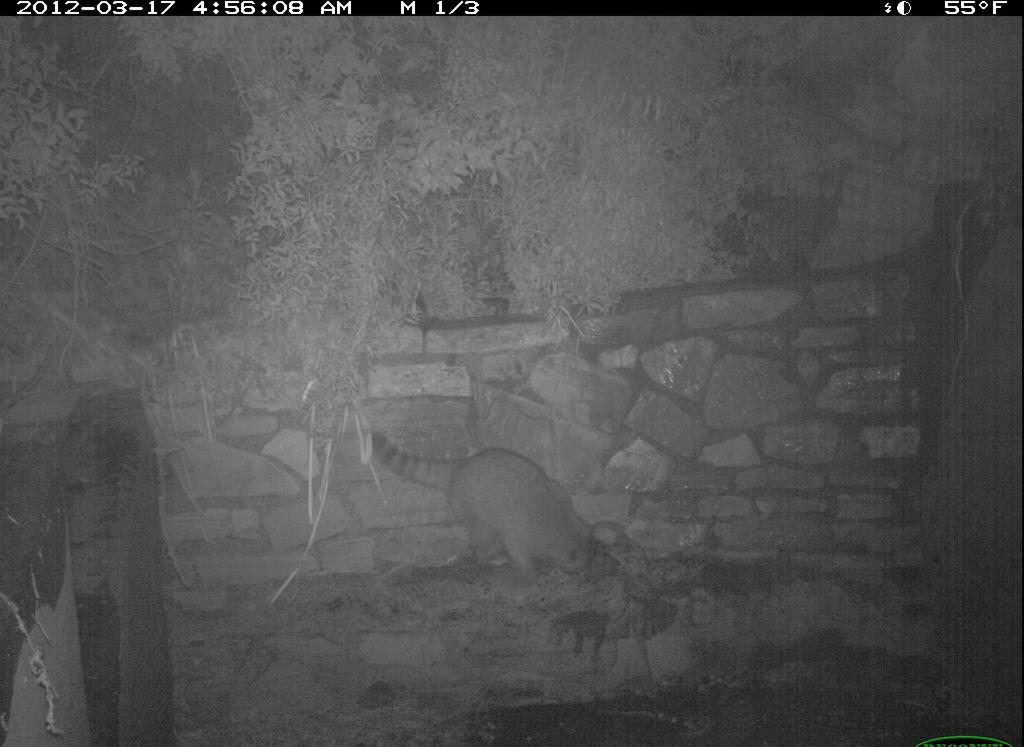raccoon: (361, 427, 621, 596)
